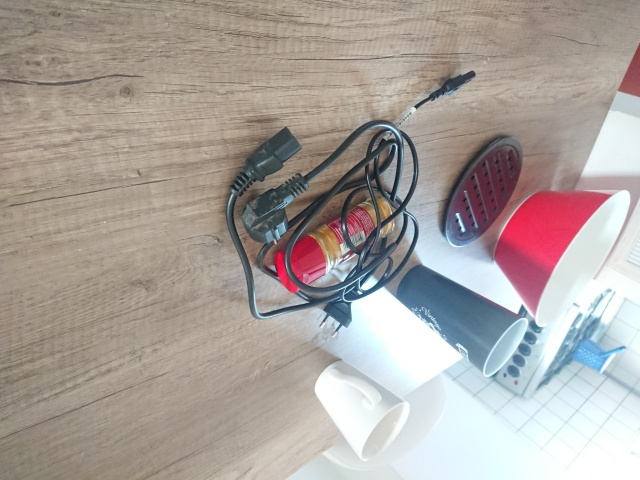Kotanyi Curry Spices Mix 70g: (270, 193, 398, 295)
